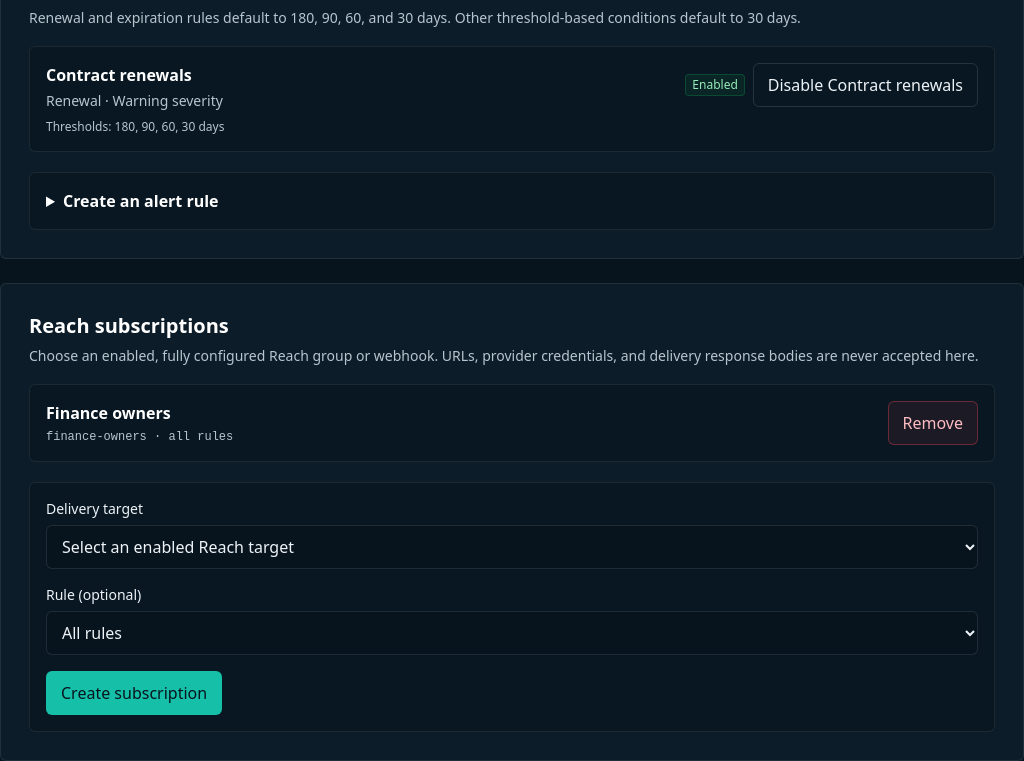
Test case: creates and removes configured subscriber references without accepting URLs
(page scrolled)
Expected: the text "Finance owners" is shown, [46, 402, 171, 424]
Select "Webhook · Operations webhook · operations-hook" in the dropdown labelled "Delivery target" at (512, 546), box [46, 524, 978, 568]
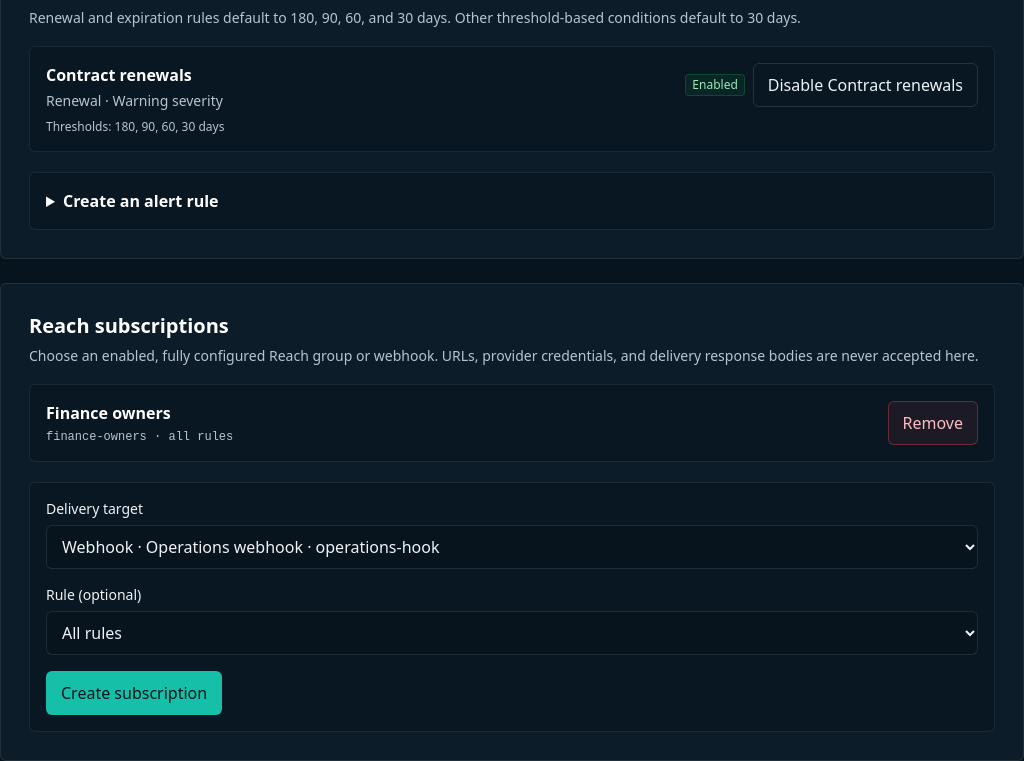
Click the button "Create subscription" at (134, 692), box [46, 670, 222, 714]
(page scrolled)
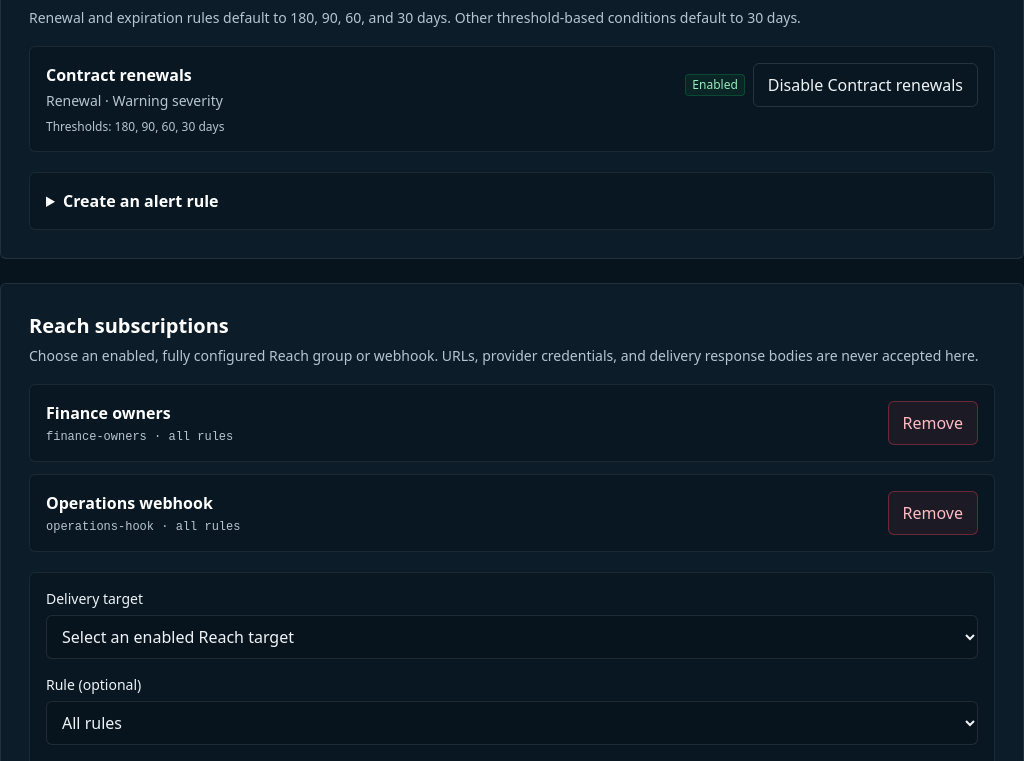
Click the button "Remove" in the row of "Finance owners" at (933, 422), box [888, 400, 978, 444]
(page scrolled)
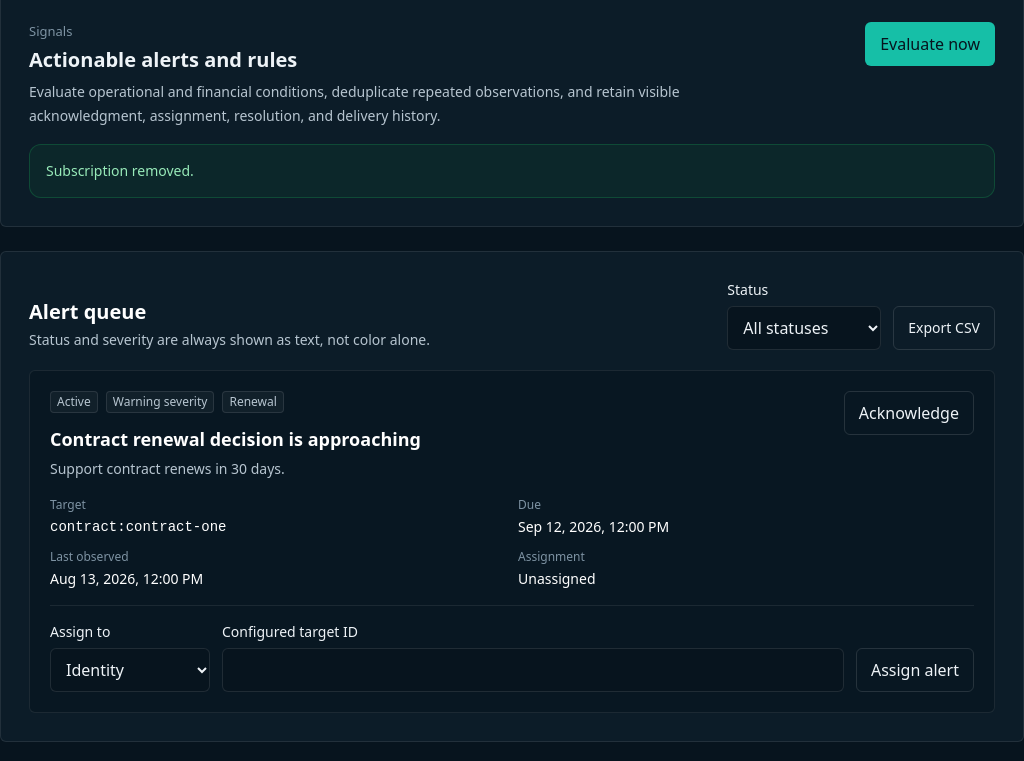
Expected: the text "Subscription removed." is shown, [29, 144, 995, 198]
